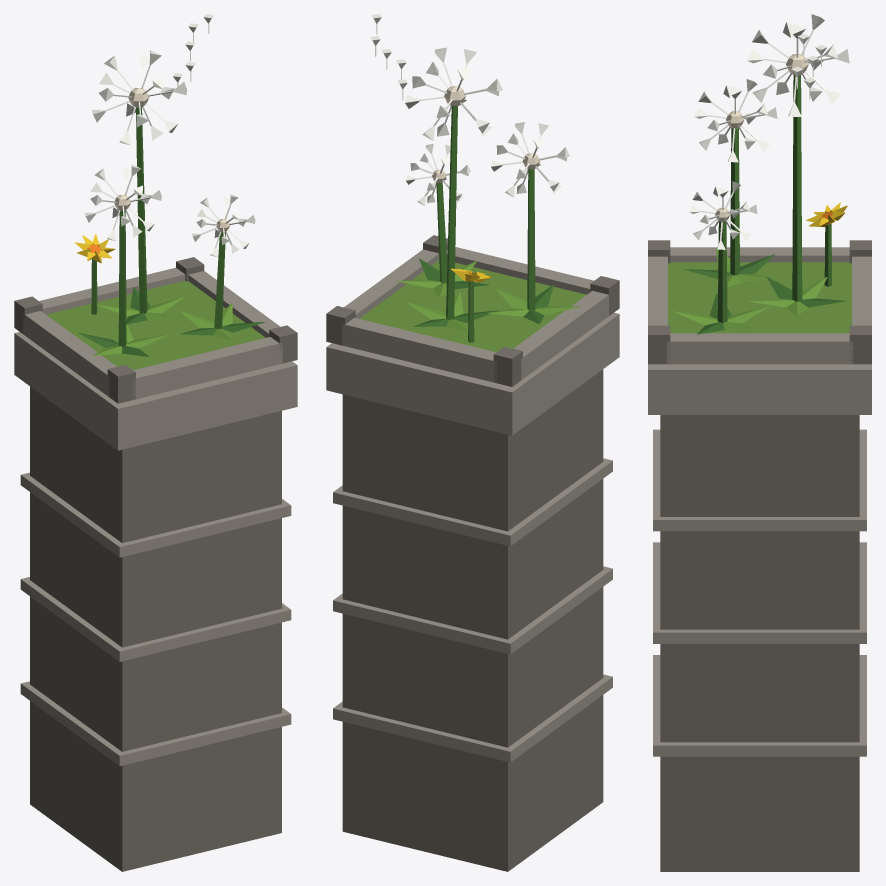
Rendered from decor_giant_dandelions.glb.
The picture shows the model from 3 angles, left to right: view 1: azimuth 30°, elevation 25°; view 2: azimuth 150°, elevation 25°; view 3: azimuth 270°, elevation 25°; orthographic projection. The views are drawn at different scales.
Parts seen in each view (by area): view 1: decor_giant_dandelions; view 2: decor_giant_dandelions; view 3: decor_giant_dandelions.
Boxes of the visible parts, x1,y1,x2,y2 form: decor_giant_dandelions: (14, 14, 297, 871); decor_giant_dandelions: (326, 14, 619, 871); decor_giant_dandelions: (648, 14, 871, 871).
Size of the model in its own units: 1.8 by 7.38 by 1.8.
